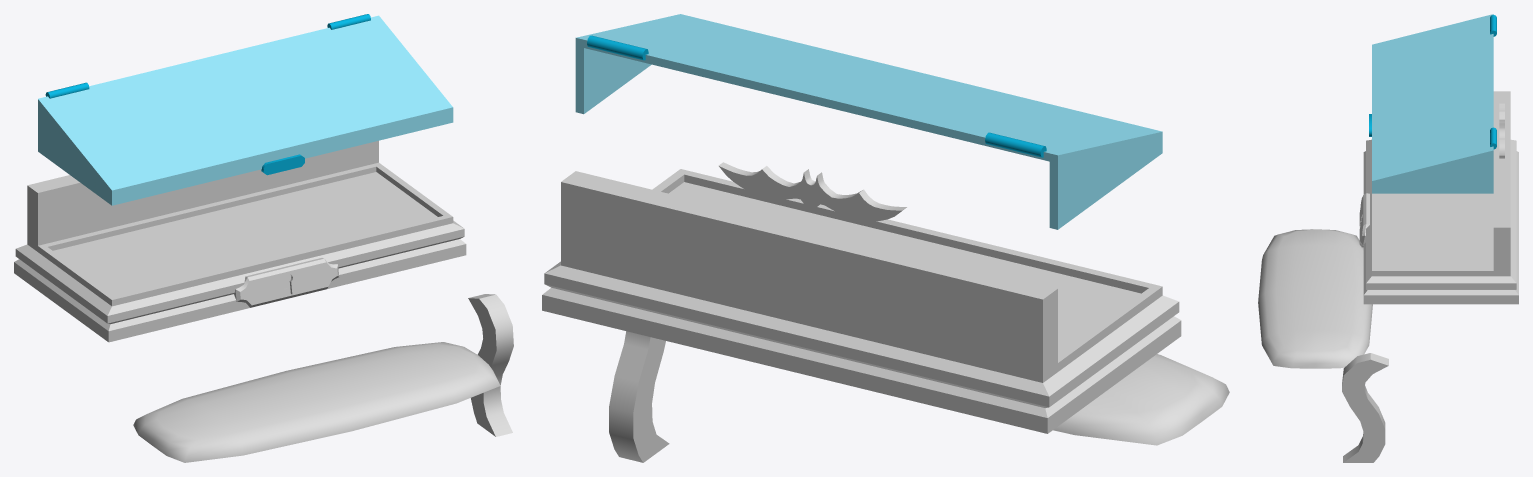
File: BrokenArtifactTable.fbx
3 renders of one model, left to right at view 1: azimuth 30°, elevation 25°; view 2: azimuth 150°, elevation 25°; view 3: azimuth 270°, elevation 25°, orthographic. The views are drawn at different scales.
Parts seen in each view (by area): view 1: Object002, Artifact_Lid, Object004, Object003, Artifact_Table; view 2: Object002, Artifact_Lid, Object004, Object003, Object001; view 3: Artifact_Lid, Object002, Object004, Object003, Artifact_Table, Object001.
Boxes of the visible parts, bbox=[...] form: Object002: bbox=[14, 140, 466, 342]; Artifact_Lid: bbox=[38, 14, 453, 205]; Object004: bbox=[133, 342, 500, 462]; Object003: bbox=[468, 294, 513, 436]; Artifact_Table: bbox=[234, 258, 339, 307]; Object002: bbox=[542, 169, 1181, 433]; Artifact_Lid: bbox=[575, 14, 1162, 229]; Object004: bbox=[1053, 354, 1229, 445]; Object003: bbox=[609, 331, 669, 462]; Object001: bbox=[718, 162, 906, 221]; Artifact_Lid: bbox=[1369, 14, 1496, 193]; Object002: bbox=[1363, 91, 1518, 304]; Object004: bbox=[1258, 229, 1372, 368]; Object003: bbox=[1342, 353, 1388, 462]; Artifact_Table: bbox=[1359, 193, 1369, 247]; Object001: bbox=[1499, 103, 1504, 158].
Size of the model in its own units: 70.11 by 62.32 by 49.31.
